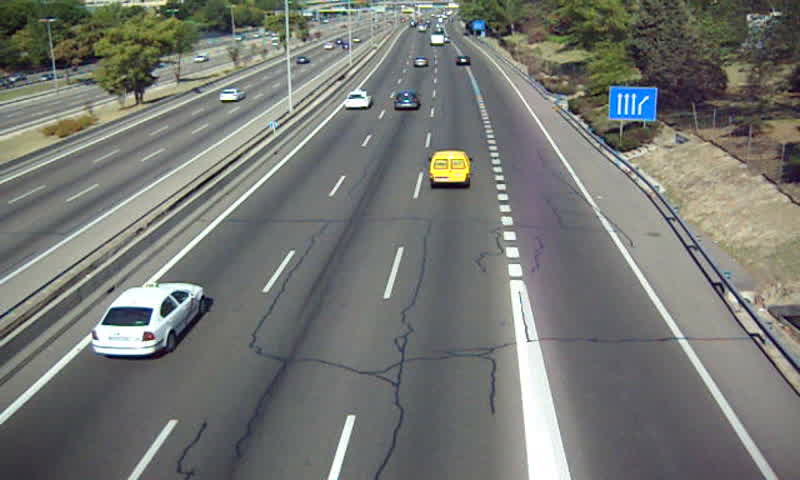car: (91, 283, 206, 358), (394, 90, 420, 111), (344, 90, 370, 109), (456, 54, 472, 68), (412, 56, 428, 70)
van: (429, 151, 471, 188)
